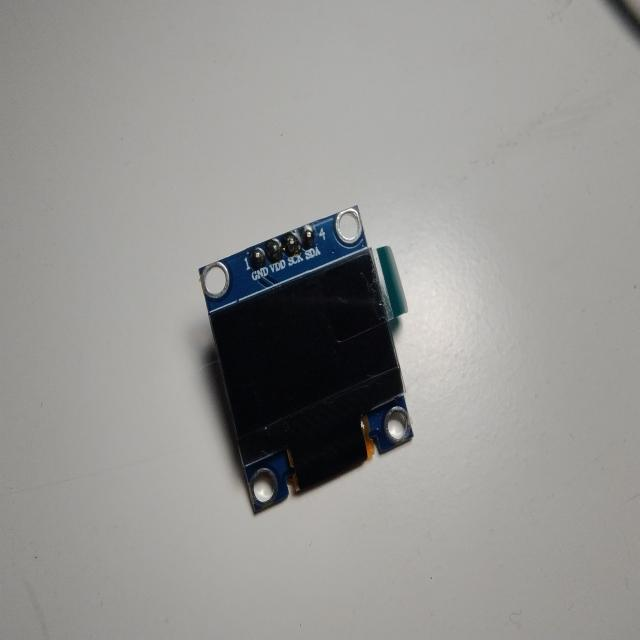oled: (190, 206, 424, 519)
